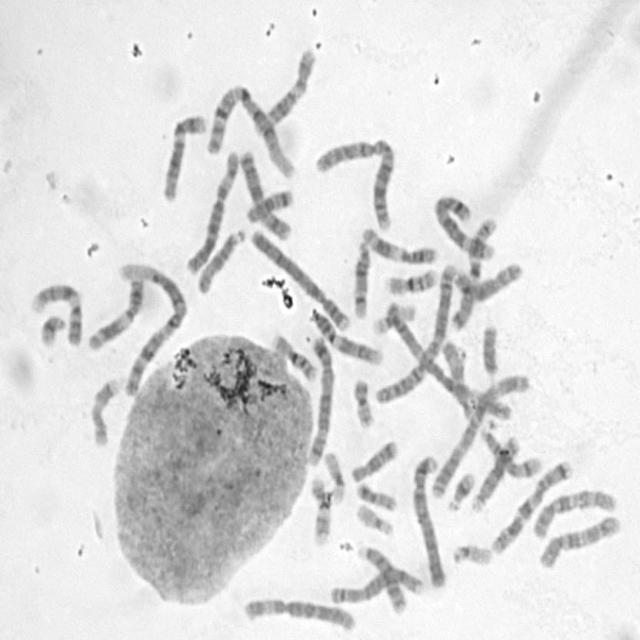A1: (202, 78, 300, 180), (117, 258, 188, 397)
A2: (373, 257, 458, 405), (310, 131, 398, 232)
A3: (426, 368, 530, 501), (389, 307, 511, 420)
B4: (248, 224, 354, 333), (410, 448, 450, 589)
B5: (430, 190, 497, 261), (303, 330, 336, 468)
C10: (535, 509, 623, 571), (528, 484, 618, 540)
C11: (82, 272, 147, 353), (357, 222, 440, 265)
C12: (160, 109, 208, 203), (261, 53, 317, 133)
C6: (182, 144, 242, 276), (241, 592, 358, 634)
C7: (488, 454, 575, 555), (447, 212, 500, 334)
C8: (326, 563, 427, 605), (450, 256, 525, 303)
C9: (306, 304, 385, 367), (27, 278, 85, 348)
D13: (469, 430, 523, 514), (353, 540, 409, 615)
D14: (477, 421, 545, 480), (350, 233, 372, 321)
D15: (194, 223, 248, 295), (438, 335, 477, 420)
E16: (269, 330, 319, 382), (382, 264, 441, 296)
E17: (87, 373, 121, 448), (307, 472, 334, 547)
E18: (348, 435, 400, 483), (243, 183, 295, 224)
F19: (368, 298, 418, 336), (320, 446, 348, 506)
F20: (352, 478, 400, 512), (350, 374, 377, 429)
G21: (444, 466, 478, 513), (36, 310, 68, 348)
G22: (353, 499, 396, 537), (448, 538, 494, 567)
X: (235, 145, 294, 242)
Y: (478, 319, 502, 377)
